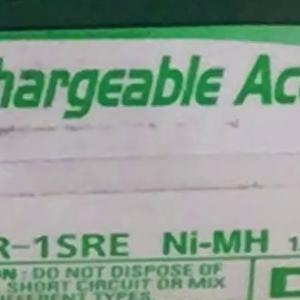NI-MH: (154, 221, 267, 264)
